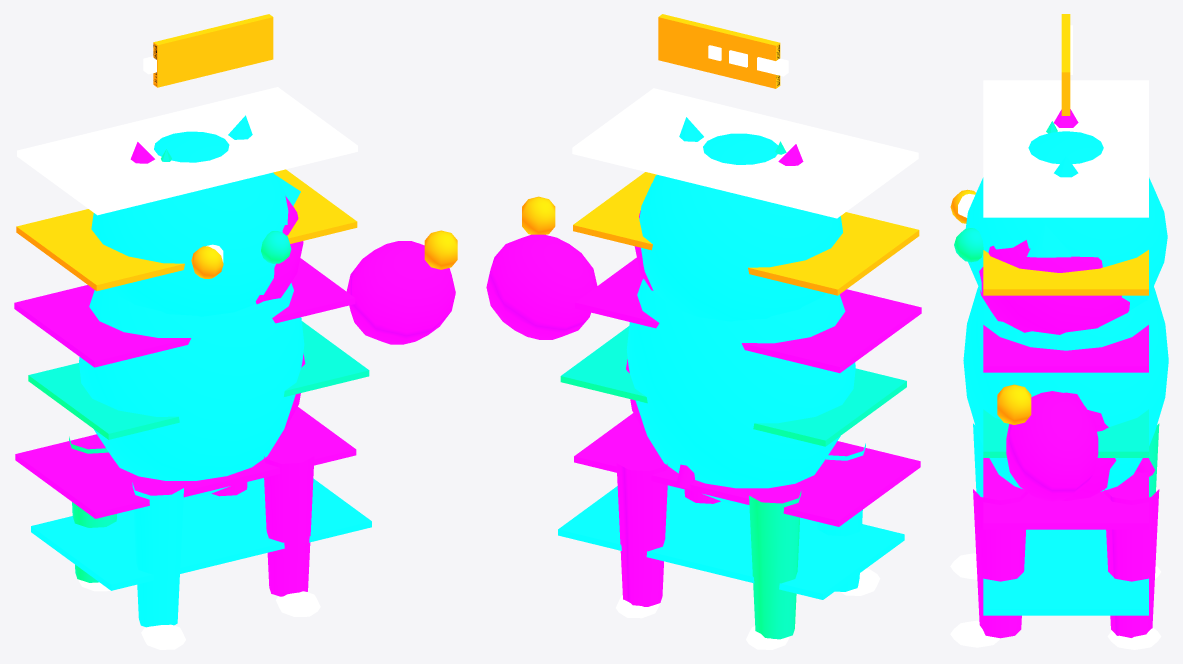
File: cat-glitch.glb
3 views of the same model, side by side, from view 1: azimuth 30°, elevation 25°; view 2: azimuth 150°, elevation 25°; view 3: azimuth 270°, elevation 25° (orthographic). The views are drawn at different scales.
Parts seen in each view (by area): view 1: body, scan-5, head, scan-0, scan-1, float-body, scan-3, scan-4, scan-2, leg--0.45 (×2), leg-0.45, err-block (+6 smaller); view 2: body, head, scan-5, scan-0, scan-1, scan-4, float-body, scan-3, scan-2, leg--0.45 (×2), leg-0.45, err-block (+1 smaller); view 3: scan-5, body, scan-0, head, leg-0.45 (×2), float-body, scan-1, head-g, scan-4, scan-3, scan-2, paw-0.45 (×2) (+7 smaller).
Part boxes in pixels (box(x1,y1,x2,y2)): body: box(79, 283, 304, 497); scan-5: box(17, 87, 357, 215); head: box(91, 131, 288, 316); scan-0: box(31, 478, 371, 590); scan-1: box(15, 407, 356, 518); float-body: box(346, 241, 455, 344); scan-3: box(14, 258, 355, 367); scan-4: box(16, 169, 357, 291); scan-2: box(28, 321, 369, 439); leg--0.45 (×2): box(69, 436, 183, 627); leg-0.45: box(264, 456, 314, 596); err-block: box(153, 14, 273, 87); body: box(626, 278, 855, 505); head: box(639, 133, 842, 321); scan-5: box(572, 88, 918, 218); scan-0: box(558, 485, 904, 599); scan-1: box(574, 413, 920, 526); scan-4: box(573, 172, 919, 295); float-body: box(486, 234, 597, 339); scan-3: box(575, 257, 921, 373); scan-2: box(560, 326, 906, 446); leg--0.45 (×2): box(749, 443, 865, 639); leg-0.45: box(616, 463, 667, 606); err-block: box(658, 14, 780, 88); scan-5: box(983, 80, 1148, 217); body: box(963, 286, 1168, 491); scan-0: box(983, 529, 1148, 615); head: box(965, 131, 1167, 310); leg-0.45 (×2): box(973, 489, 1159, 638); float-body: box(1006, 391, 1098, 501); scan-1: box(983, 458, 1148, 529); head-g: box(979, 240, 1129, 334); scan-4: box(983, 250, 1148, 295); scan-3: box(983, 325, 1148, 372); scan-2: box(983, 409, 1148, 457); paw-0.45 (×2): box(950, 620, 1161, 649).
Size of the model in its own units: 2.7 by 3.71 by 1.27.
